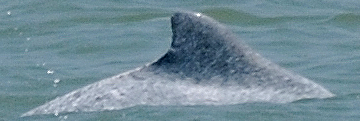fin: (23, 8, 340, 117)
